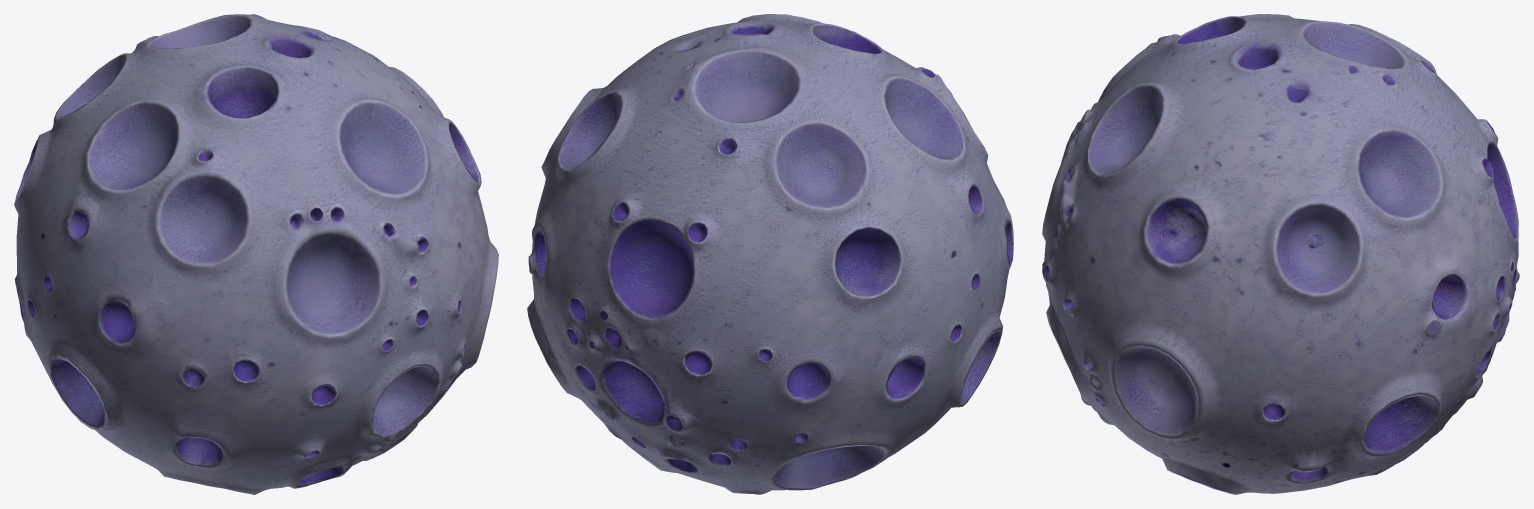
Rendered from r33-moon.glb.
3 views of the same model, side by side, from view 1: azimuth 30°, elevation 25°; view 2: azimuth 150°, elevation 25°; view 3: azimuth 270°, elevation 25° (orthographic).
Parts seen in each view (by area): view 1: tripo_node_e53518cd-9d70-4fba-85b2-255c220a7052; view 2: tripo_node_e53518cd-9d70-4fba-85b2-255c220a7052; view 3: tripo_node_e53518cd-9d70-4fba-85b2-255c220a7052.
Boxes of the visible parts, <box> form: tripo_node_e53518cd-9d70-4fba-85b2-255c220a7052: <box>14,14,498,494</box>; tripo_node_e53518cd-9d70-4fba-85b2-255c220a7052: <box>527,14,1013,494</box>; tripo_node_e53518cd-9d70-4fba-85b2-255c220a7052: <box>1042,14,1519,494</box>.
Bounding box in the file's own units: 0.998 × 0.998 × 0.998.
Materials: 1 (1 with a texture image).
